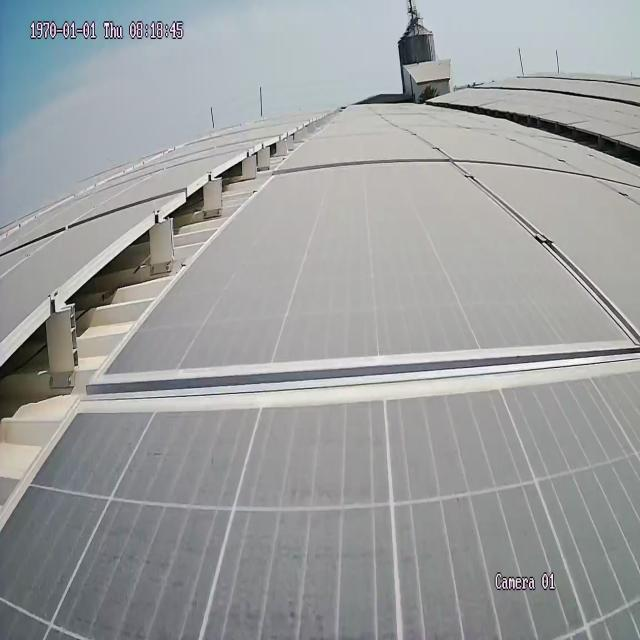interior panel: (424, 148, 639, 325), (98, 334, 636, 402)
outher panel: (0, 121, 312, 523), (471, 105, 638, 169)
